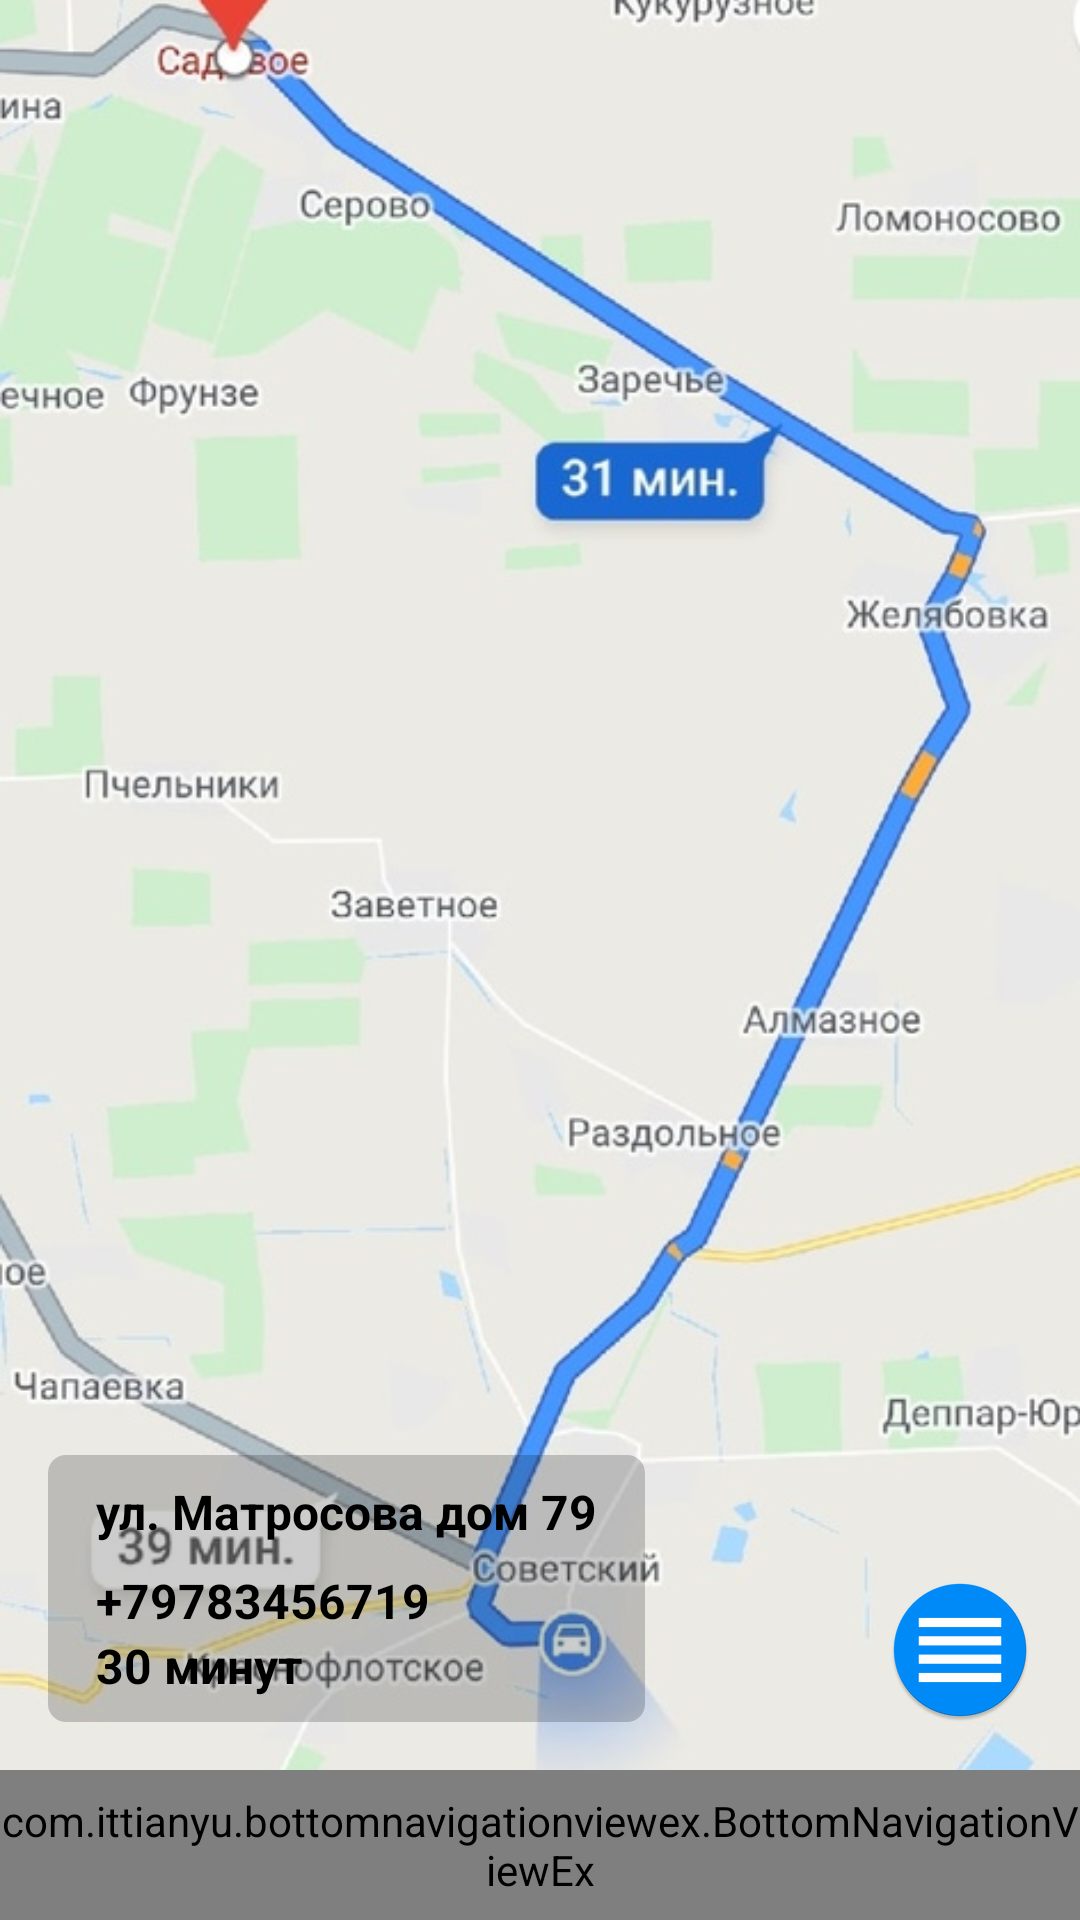

Icon bounding boxes for this 1080×1920 phone screenshot, format (x1=x1, y1=y1, x2=x2, y2=y2):
list: (x1=893, y1=1583, x2=1027, y2=1719)
